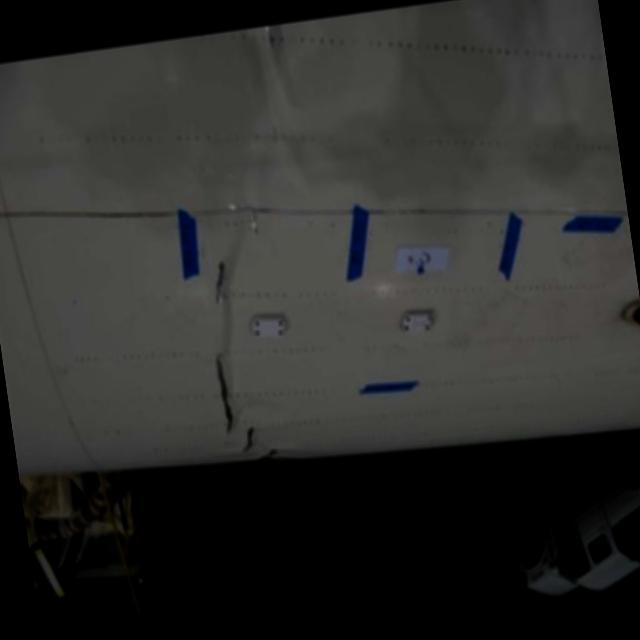crack: (206, 348, 244, 440), (204, 256, 232, 306), (238, 421, 260, 454)
